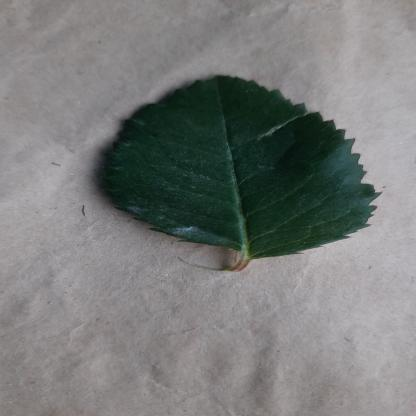normal: (91, 76, 380, 262)
